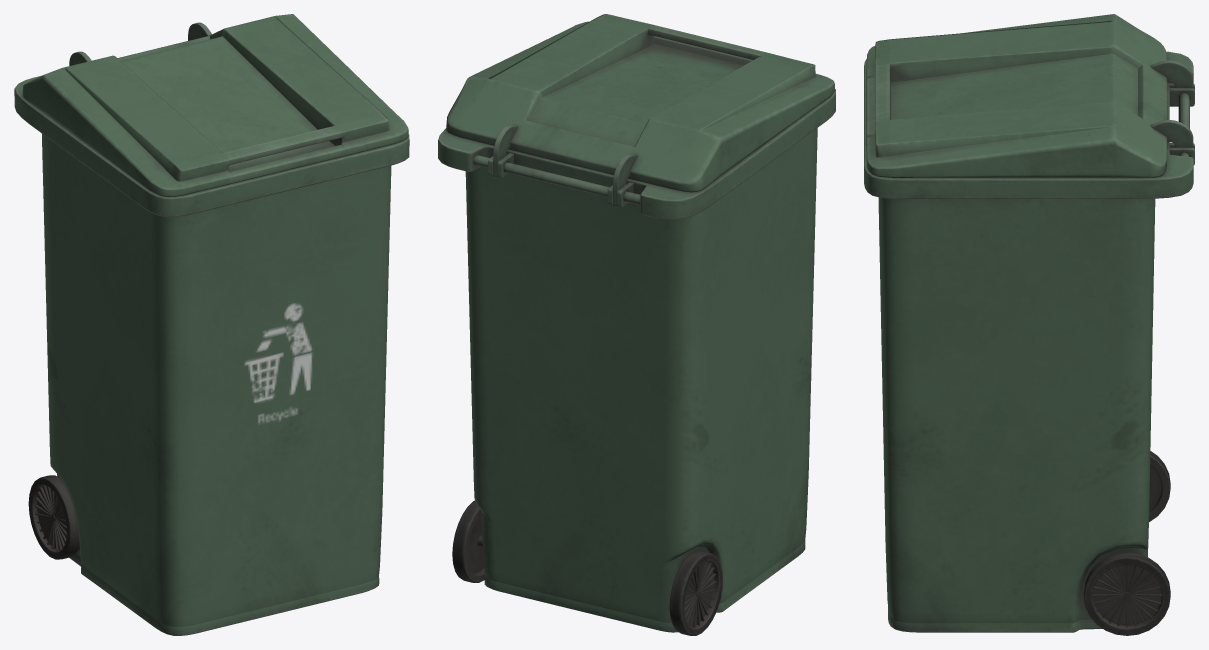
3 renders of one model, left to right at view 1: azimuth 30°, elevation 25°; view 2: azimuth 150°, elevation 25°; view 3: azimuth 270°, elevation 25°, orthographic. The views are drawn at different scales.
Parts seen in each view (by area): view 1: Object029_1010_0; view 2: Object029_1010_0; view 3: Object029_1010_0.
Part boxes in pixels (x1,y1,x2,y2): Object029_1010_0: [14, 14, 409, 635]; Object029_1010_0: [438, 14, 835, 635]; Object029_1010_0: [864, 14, 1194, 635].
Bounding box in the file's own units: 0.6592 × 1.2 × 0.7122.
Materials: 1 (1 with a texture image).
